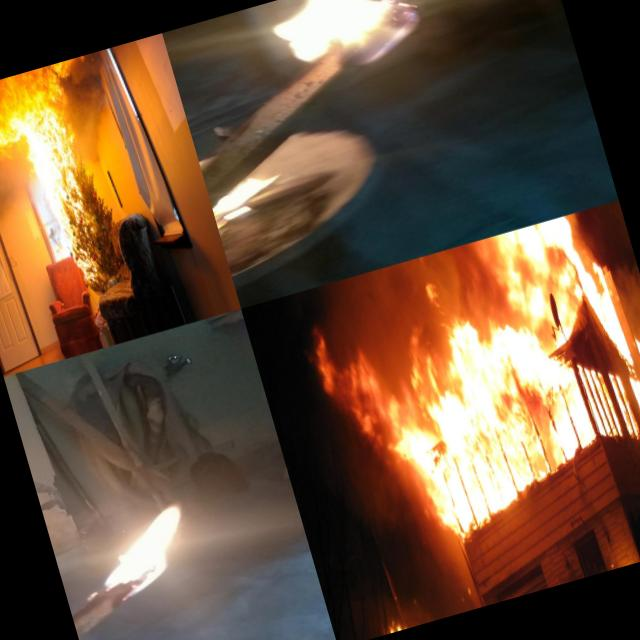fire: (295, 202, 640, 535), (262, 0, 442, 98), (24, 133, 114, 293), (84, 495, 210, 605), (0, 63, 73, 169), (207, 169, 288, 230), (594, 535, 638, 572), (378, 601, 414, 634)
smoke: (58, 67, 124, 165), (0, 147, 41, 231)
